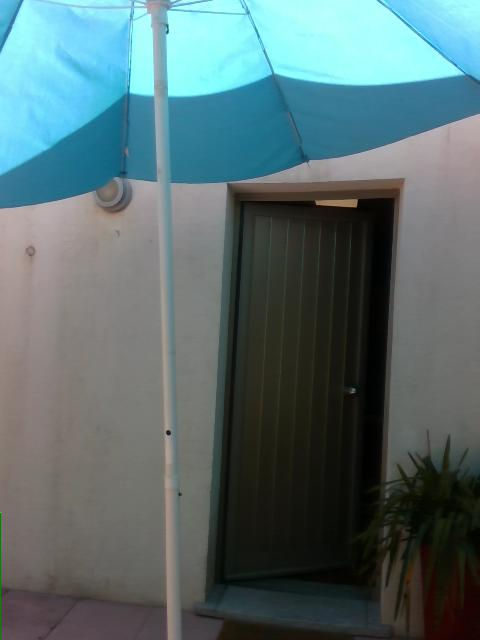semi_door: (204, 173, 402, 605)
